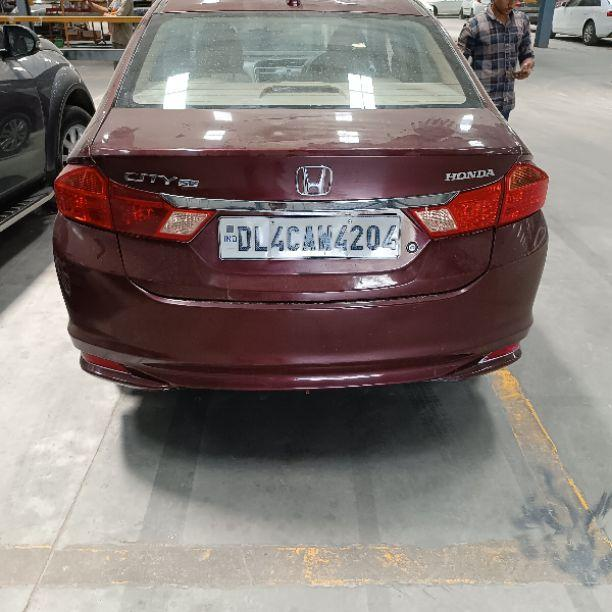license_plate: (216, 210, 402, 261)
